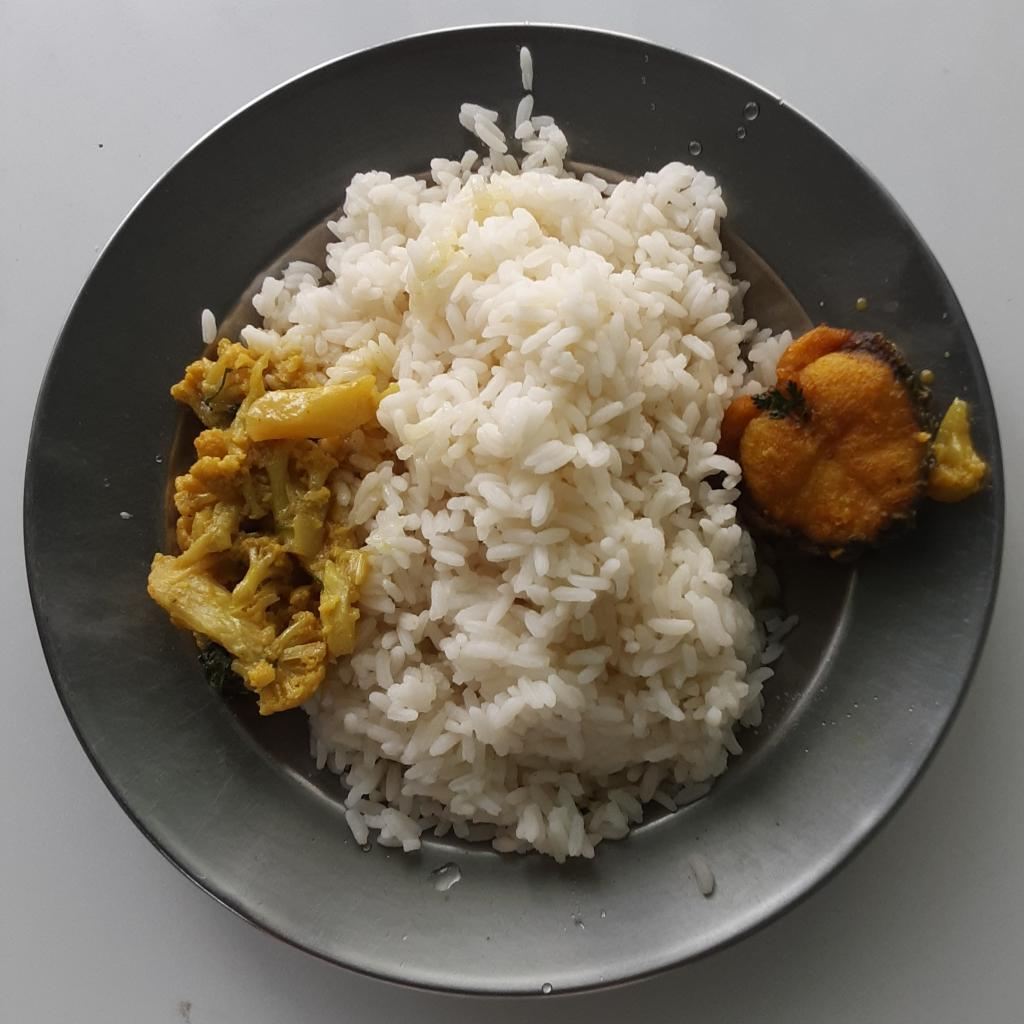cauliflower: (147, 329, 384, 720), (932, 399, 986, 510)
fish: (728, 322, 940, 558)
rice: (243, 33, 795, 865)
